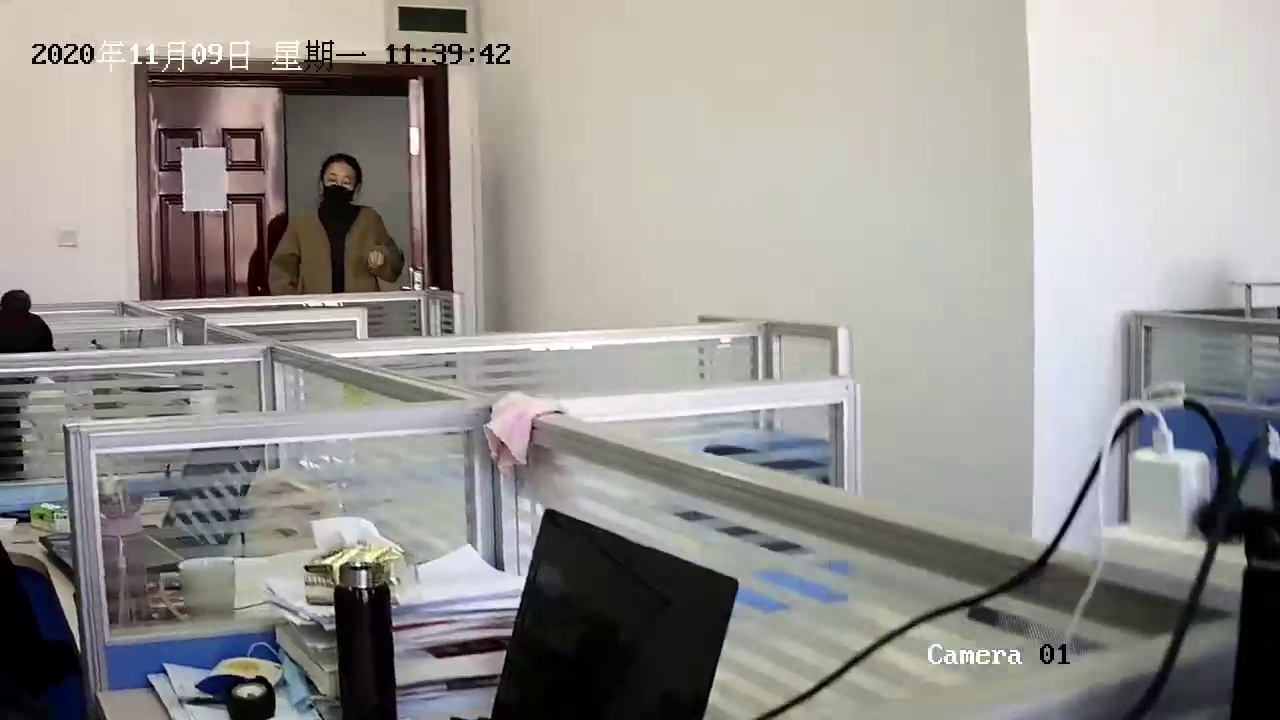mask: (317, 145, 363, 207)
